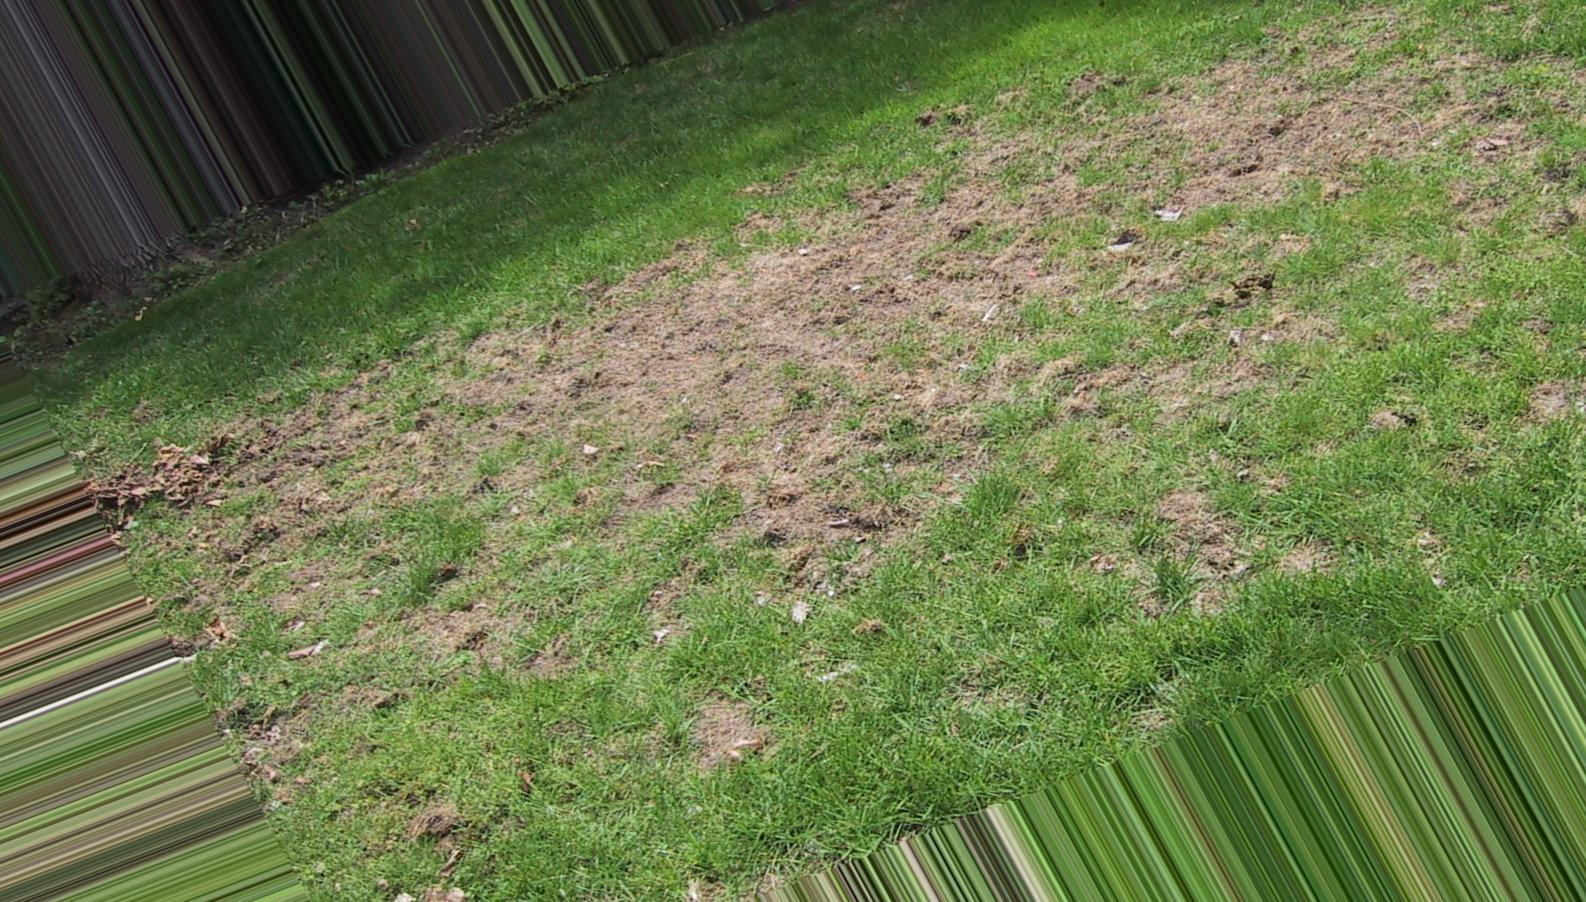patch: (566, 306, 886, 448), (918, 185, 1228, 298), (1219, 73, 1426, 184)
